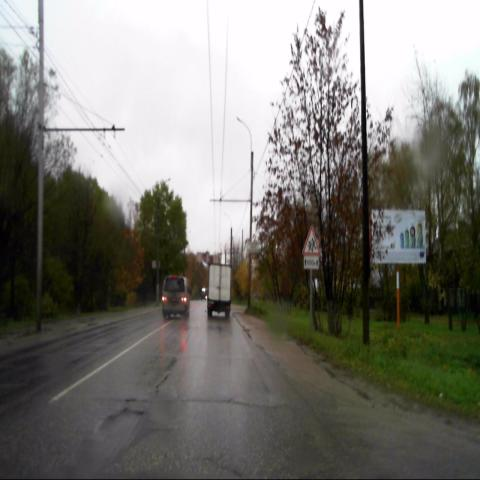1_23: (302, 225, 321, 256)
8_2_1: (302, 254, 320, 269)
